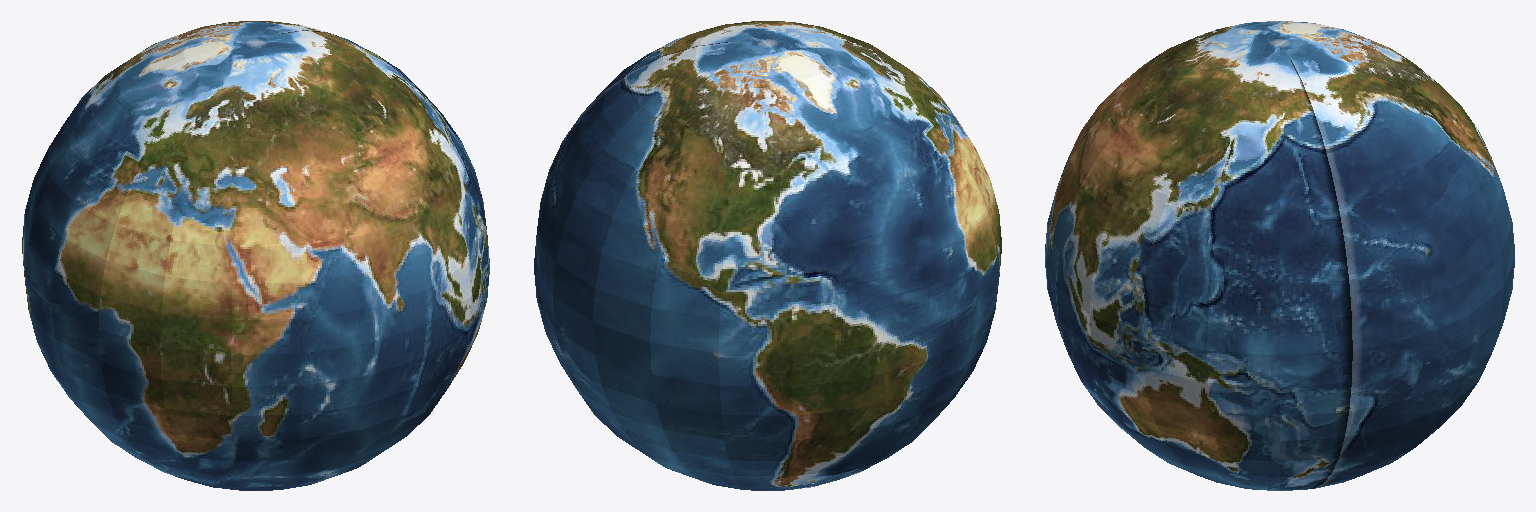
3 renders of one model, left to right at view 1: azimuth 30°, elevation 25°; view 2: azimuth 150°, elevation 25°; view 3: azimuth 270°, elevation 25°, orthographic.
Visible parts, largest first — view 1: pSphere1; view 2: pSphere1; view 3: pSphere1.
Boxes of the visible parts, <box> form: pSphere1: <box>22,21,489,490</box>; pSphere1: <box>534,21,1001,490</box>; pSphere1: <box>1045,21,1514,490</box>.
Bounding box in the file's own units: 2 × 2 × 2.
1 materials, 1 textured.